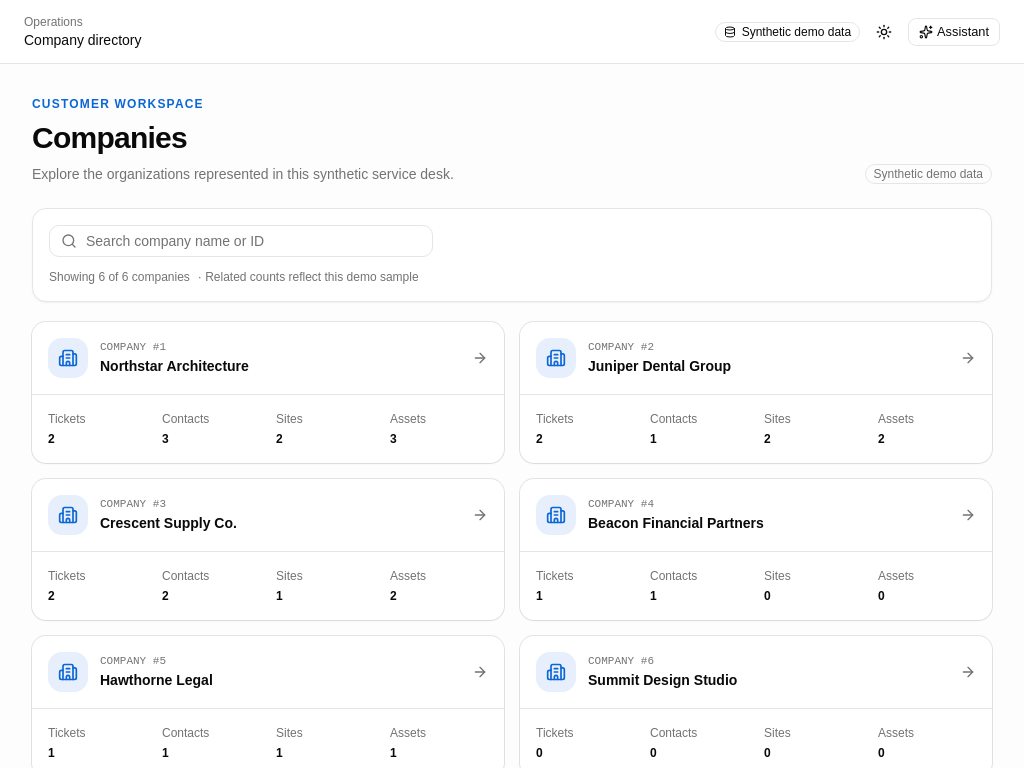
it: company routes › searches by name or ID, reports no results, and clears the search
This screenshot has width=1024, height=768.
Step 1. Type "Northstar" into the field named "Search companies" → (241, 241), box [49,225,433,257]
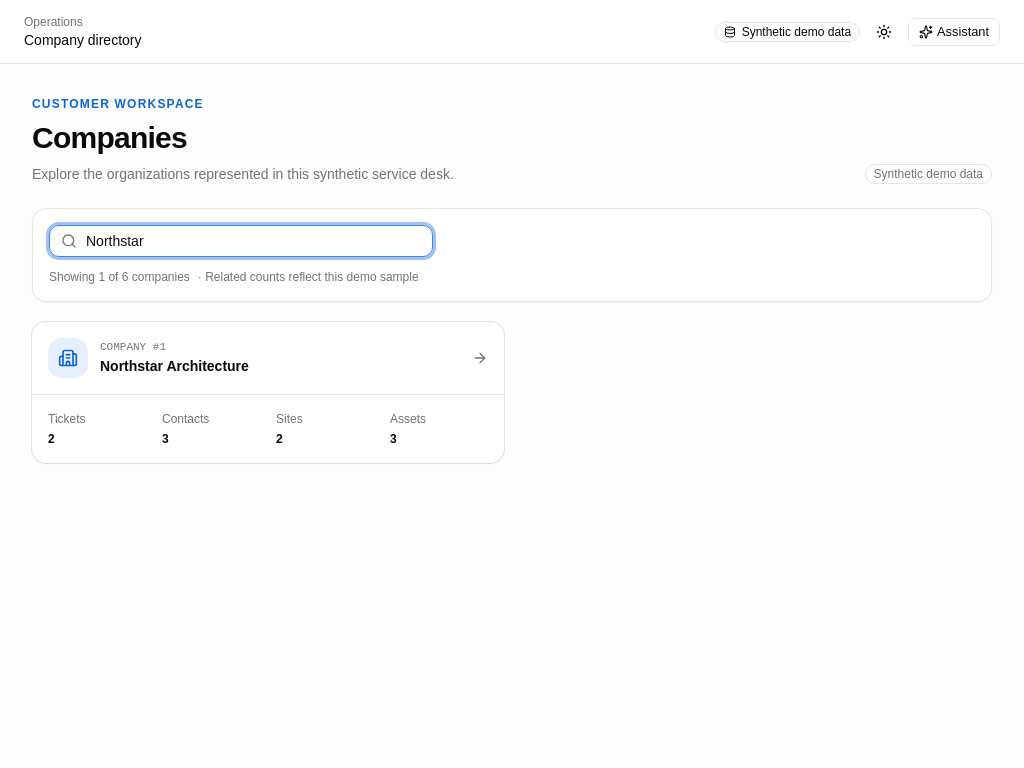
expect the text "Showing 1 of 6 companies" is shown: met, box [49,270,419,284]
Step 2. Replace the text in the field named "Search companies" with "6" → (241, 241), box [49,225,433,257]
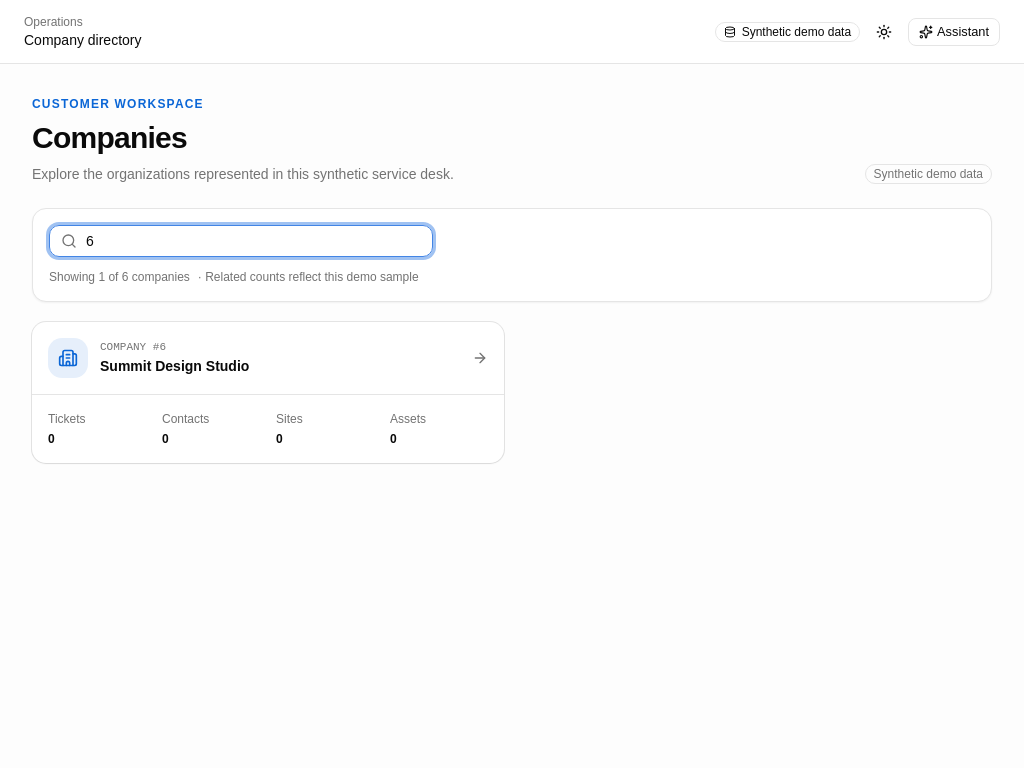
expect the link with aria-label "Open company #6: Summit Design Studio" is shown: met, box [100,358,249,374]
Step 3. Replace the text in the field named "Search companies" with "no customer here" → (241, 241), box [49,225,433,257]
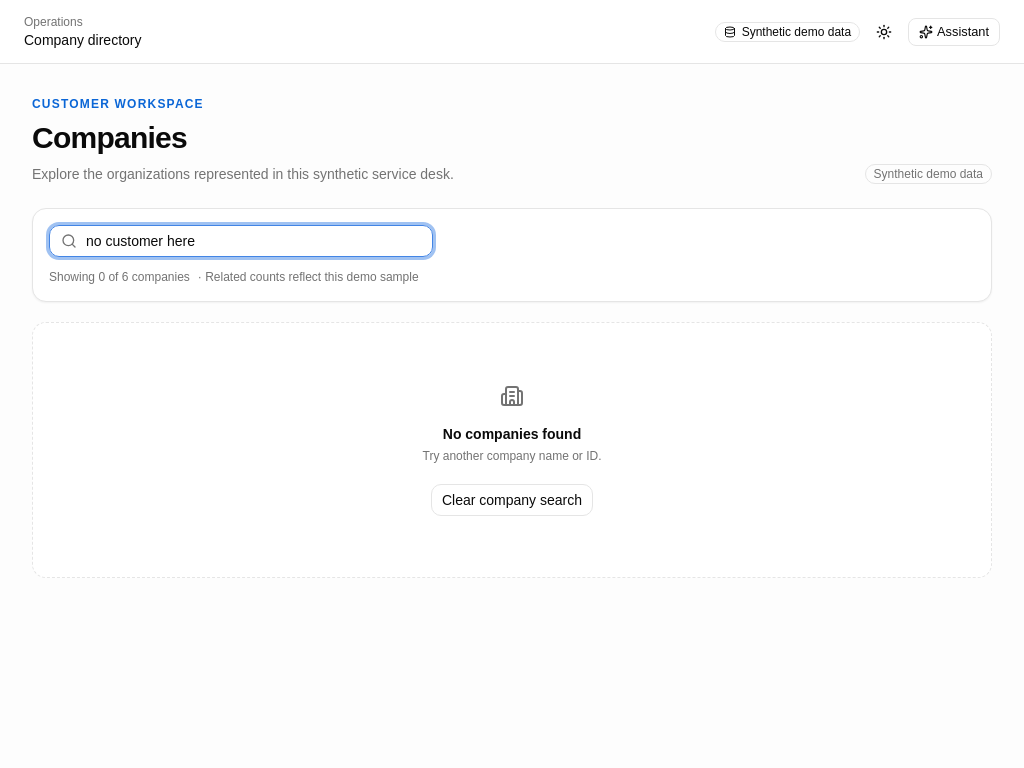
expect the heading "No companies found" is shown: met, box [443,424,581,444]
Step 4. Click the button "Clear company search" → (512, 500), box [431,484,593,516]
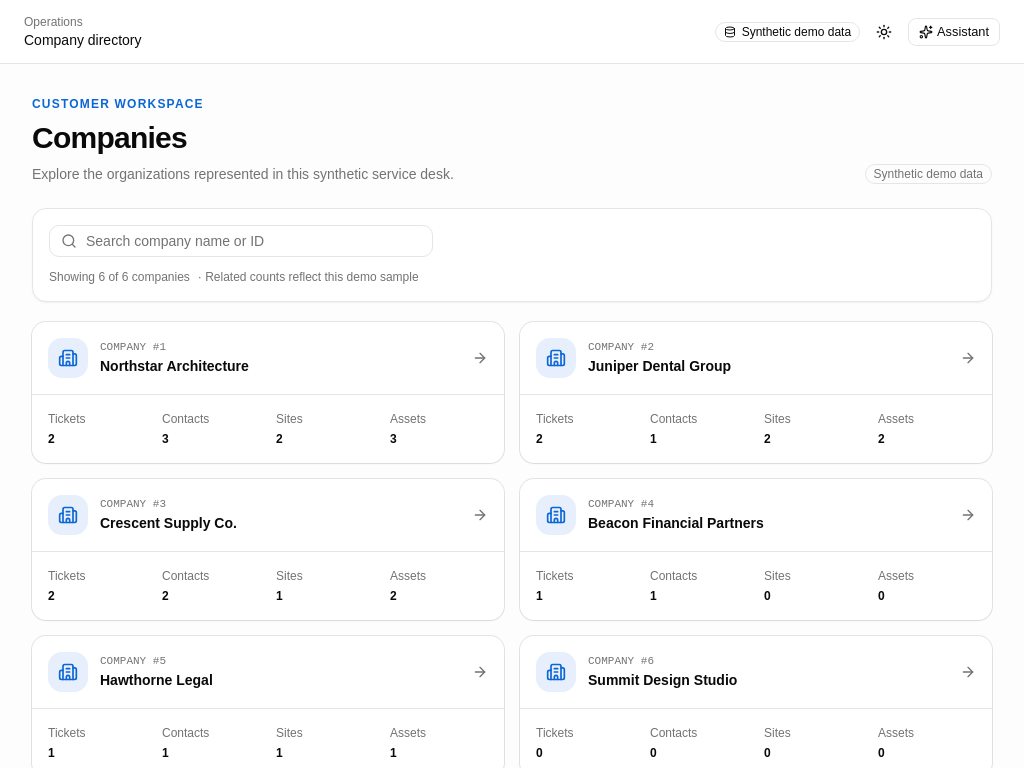
expect the text "Showing 6 of 6 companies" is shown: met, box [49,270,419,284]
